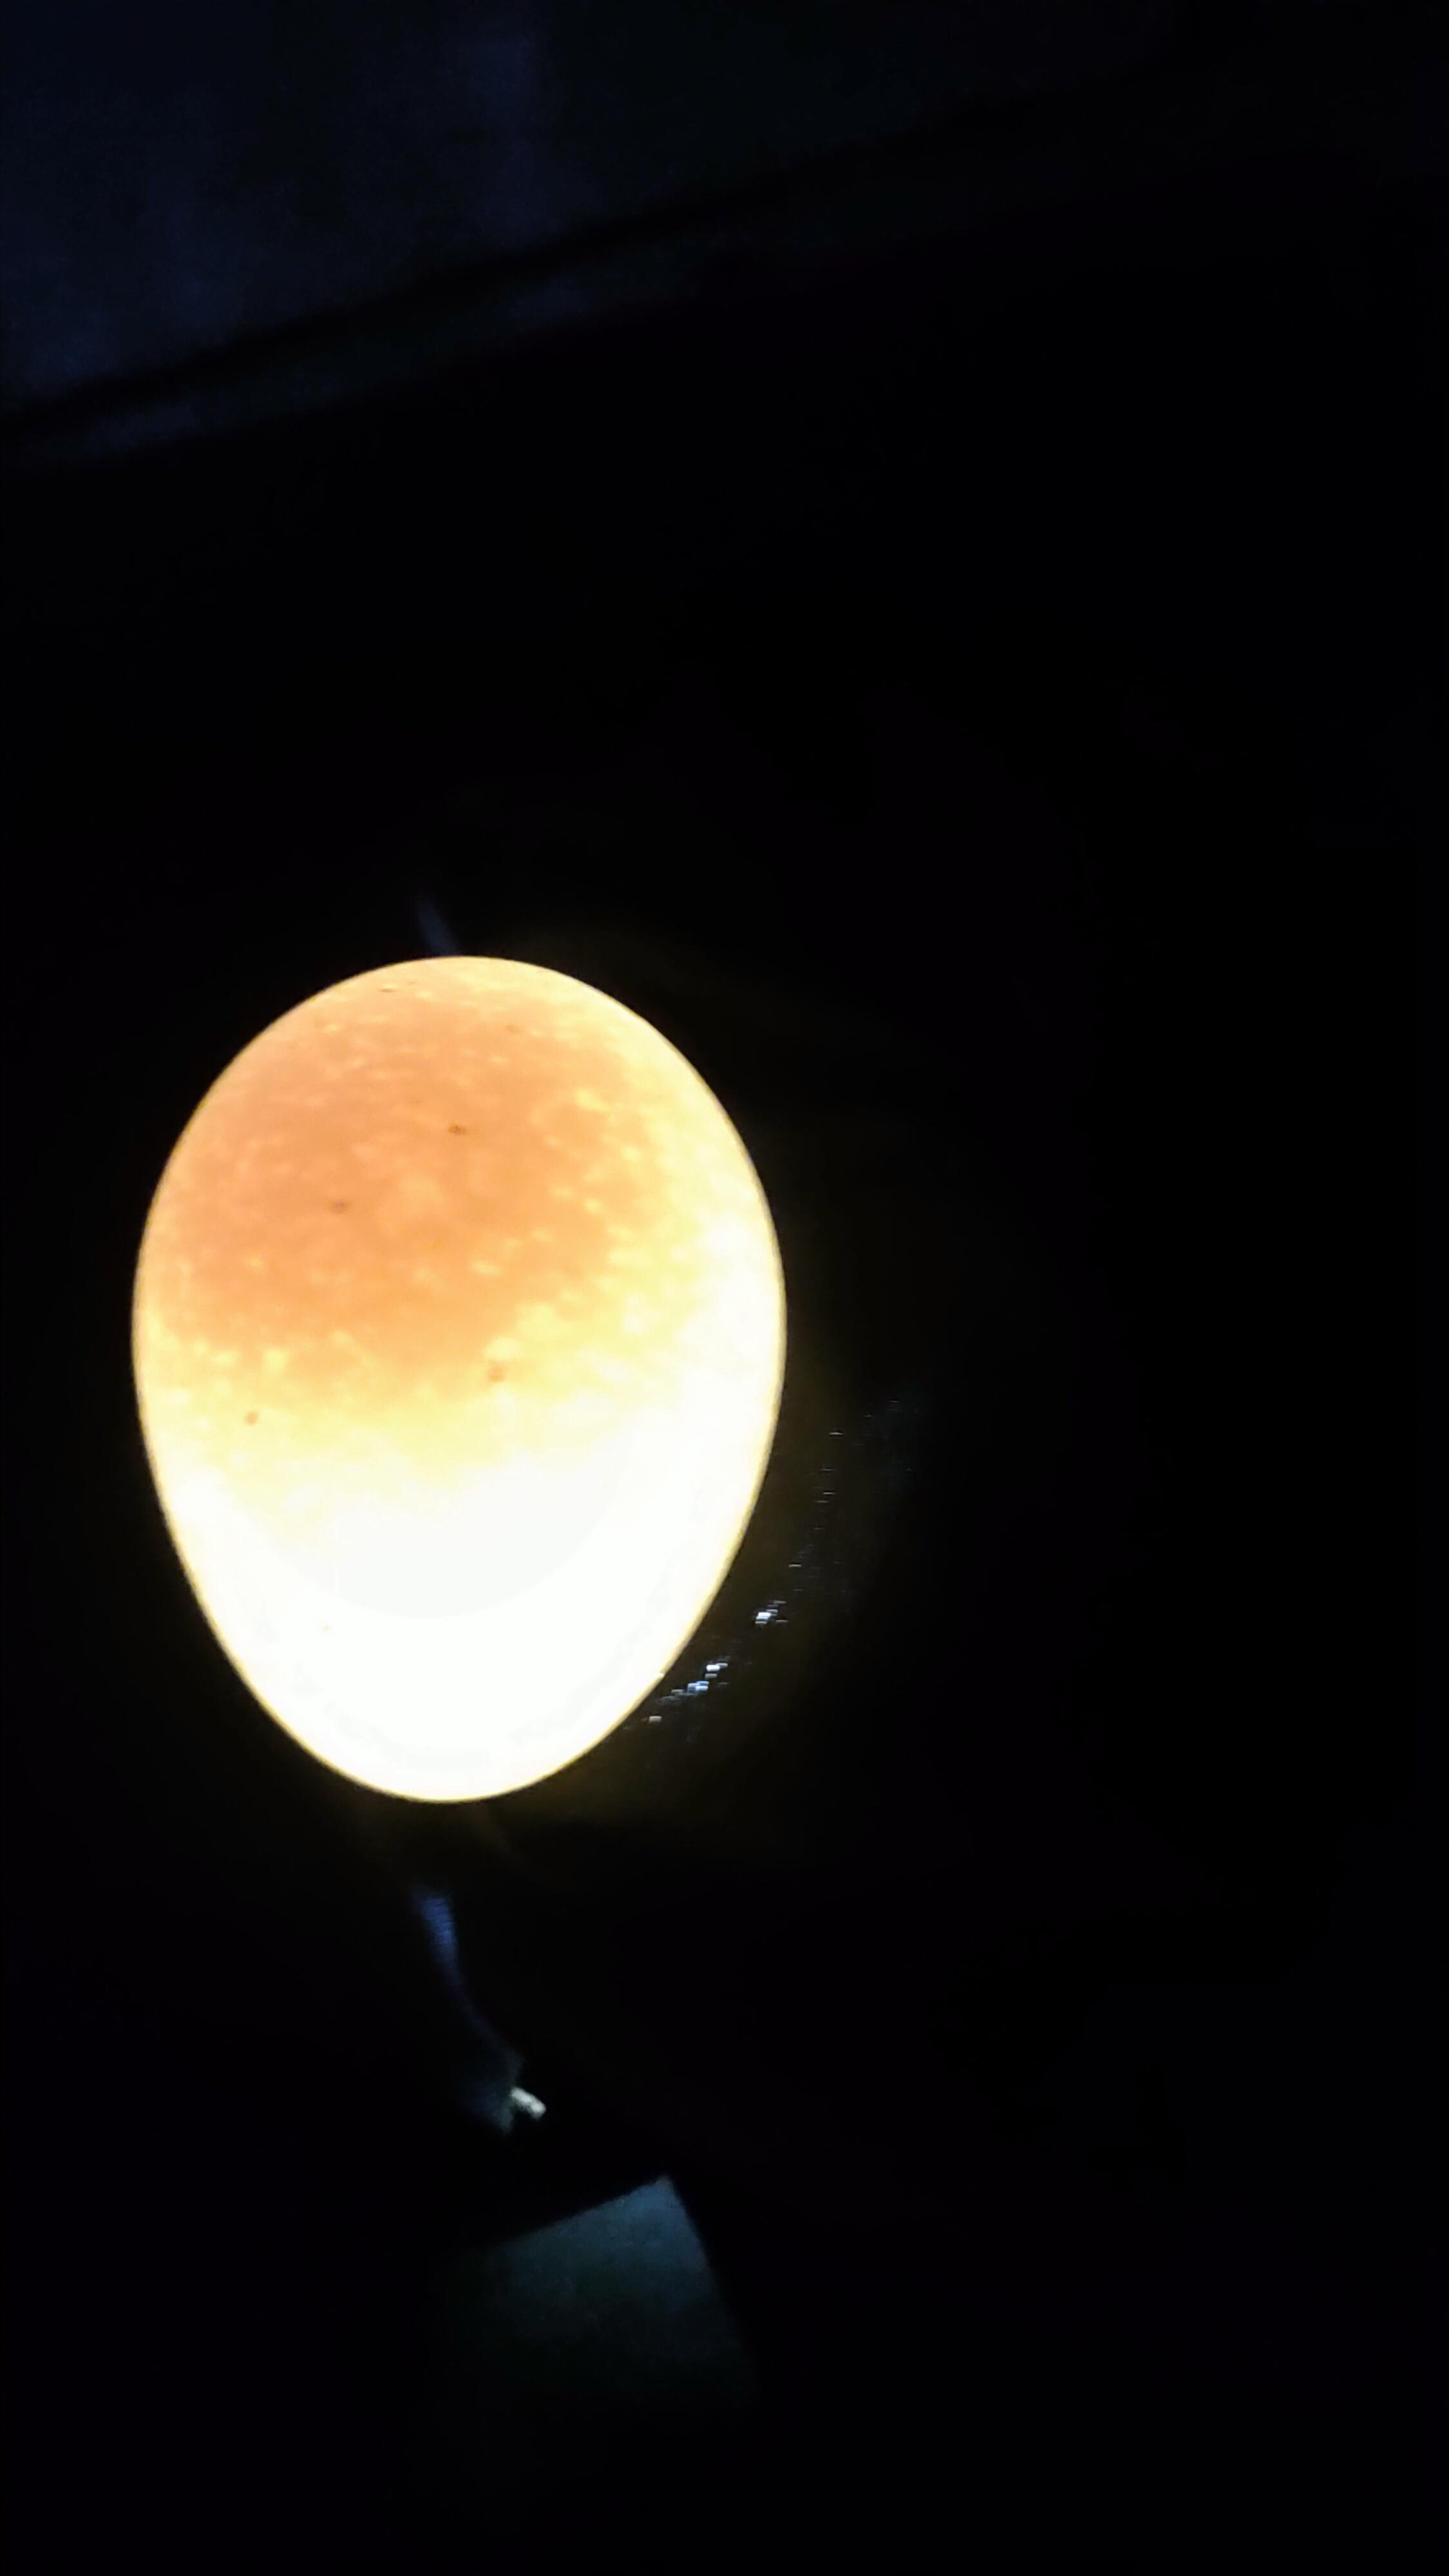Inedible: (97, 915, 863, 1854)
